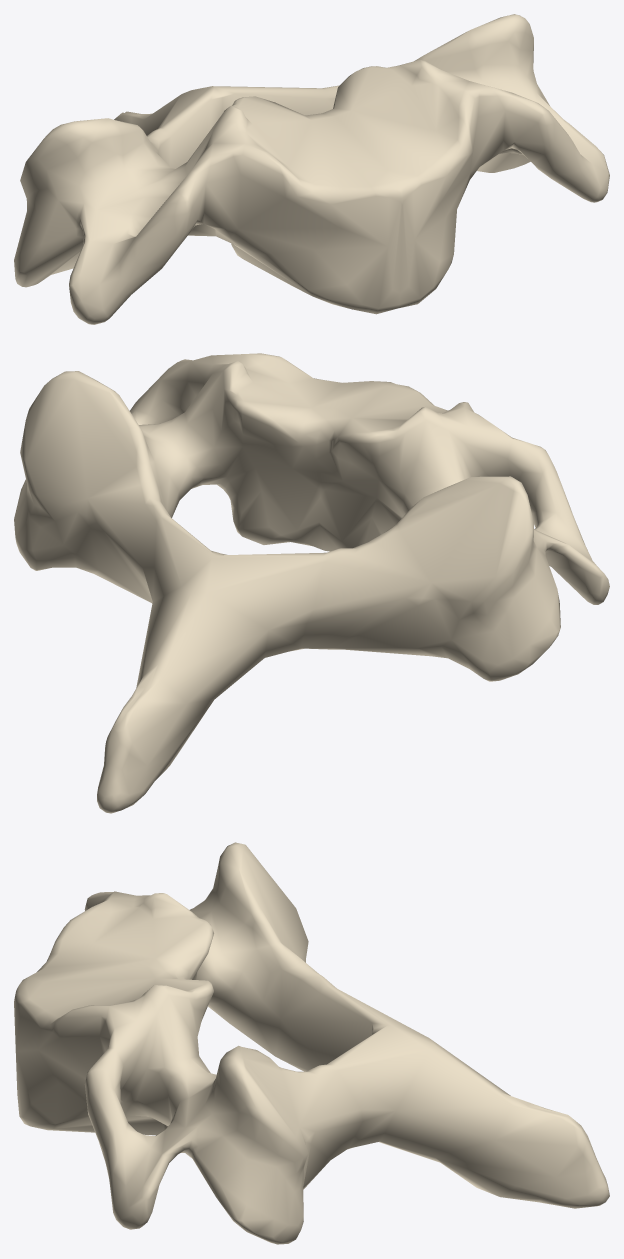
File: vertebra-c3.glb
3 renders of one model, top to bottom at view 1: azimuth 30°, elevation 25°; view 2: azimuth 150°, elevation 25°; view 3: azimuth 270°, elevation 25°, orthographic.
Parts seen in each view (by area): view 1: Vertebra C3; view 2: Vertebra C3; view 3: Vertebra C3.
Boxes of the visible parts, x1,y1,x2,y2 form: Vertebra C3: [14, 14, 609, 324]; Vertebra C3: [14, 353, 609, 813]; Vertebra C3: [14, 842, 609, 1244].
Size of the model in its own units: 0.0565 by 0.0266 by 0.0542.
